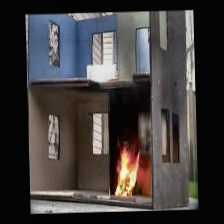fire: (112, 139, 143, 199)
